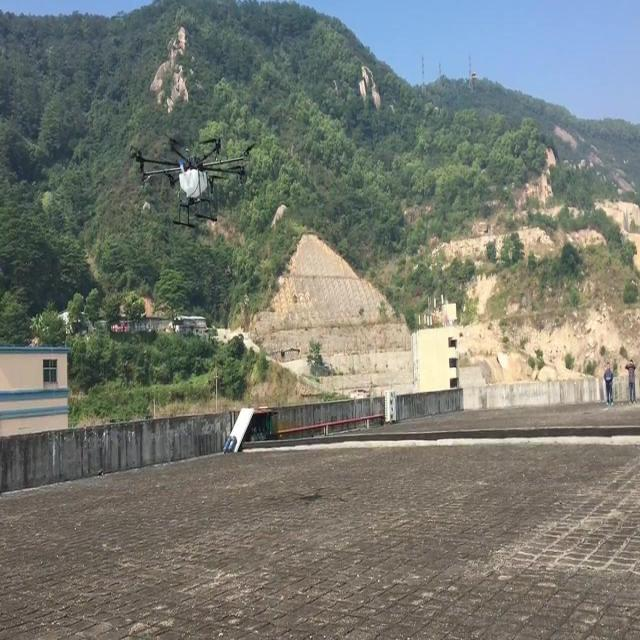UAV: (130, 132, 256, 228)
